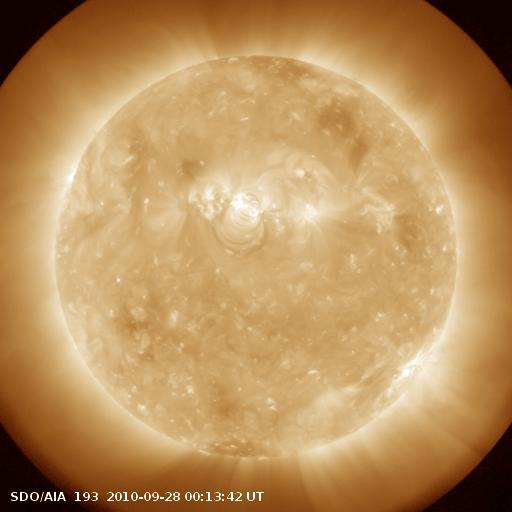coronal_hole: (317, 91, 369, 173), (237, 50, 317, 87)
